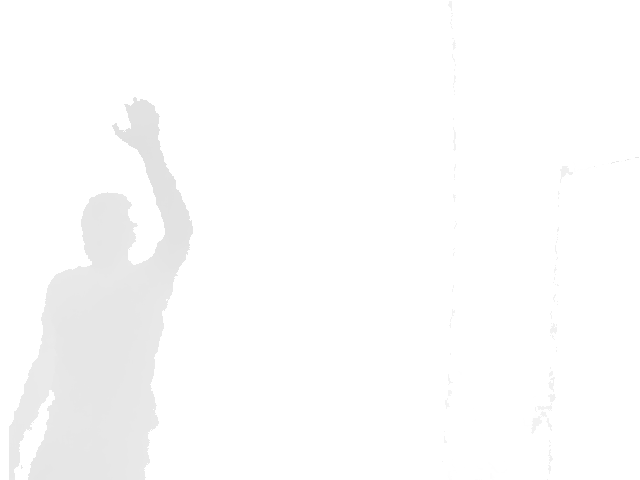hand: (110, 95, 163, 152)
head: (81, 192, 139, 266)
person: (9, 96, 195, 480)
